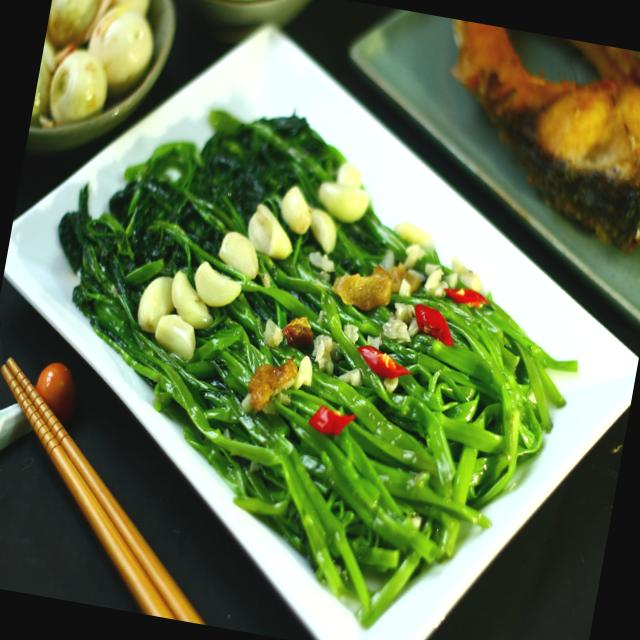rau muong: (58, 110, 576, 624)
